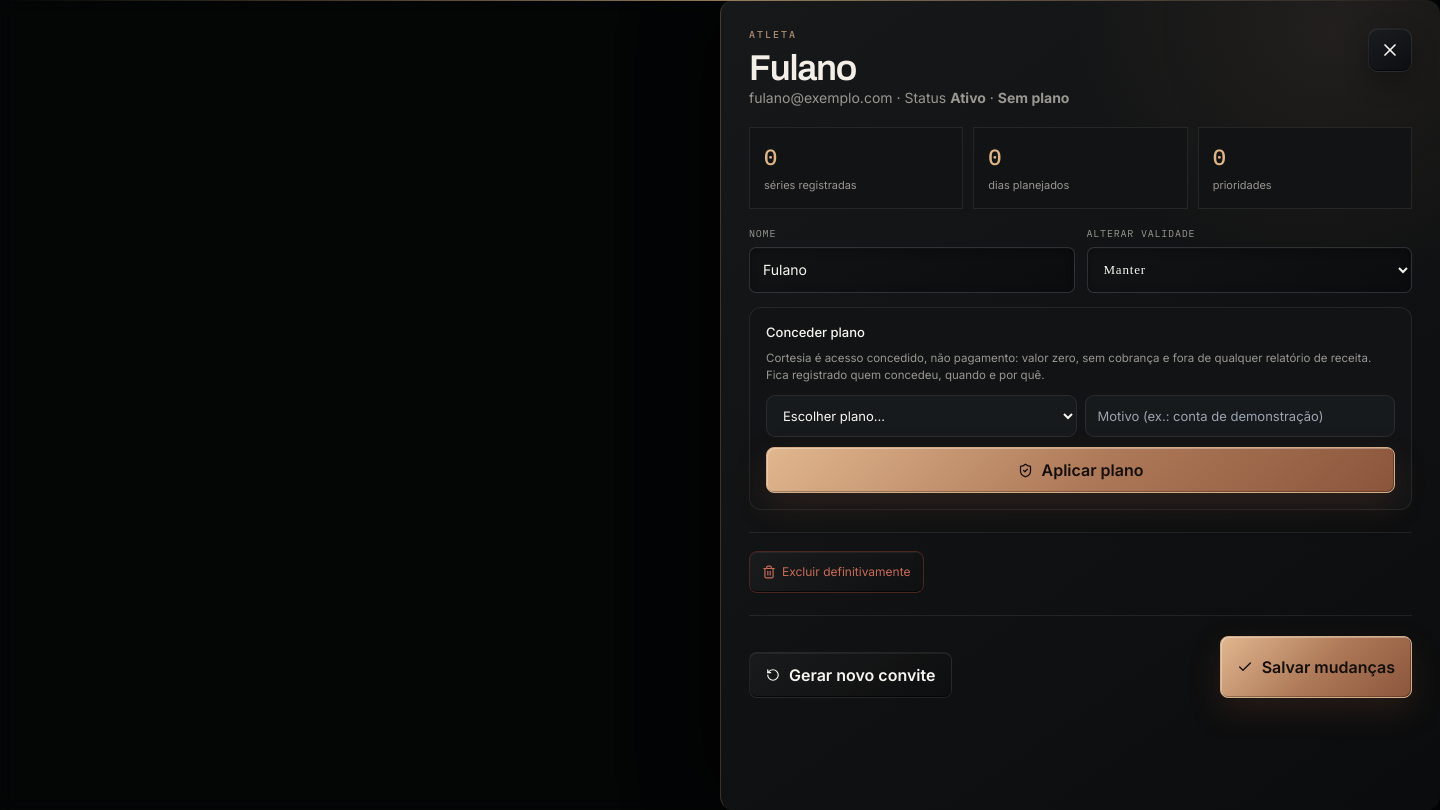
Test: a tela diz o que sera perdido e oferece arquivar no lugar
Click the button with test id "abrir-exclusao": (836, 572) [749,551,924,593]
(page scrolled)
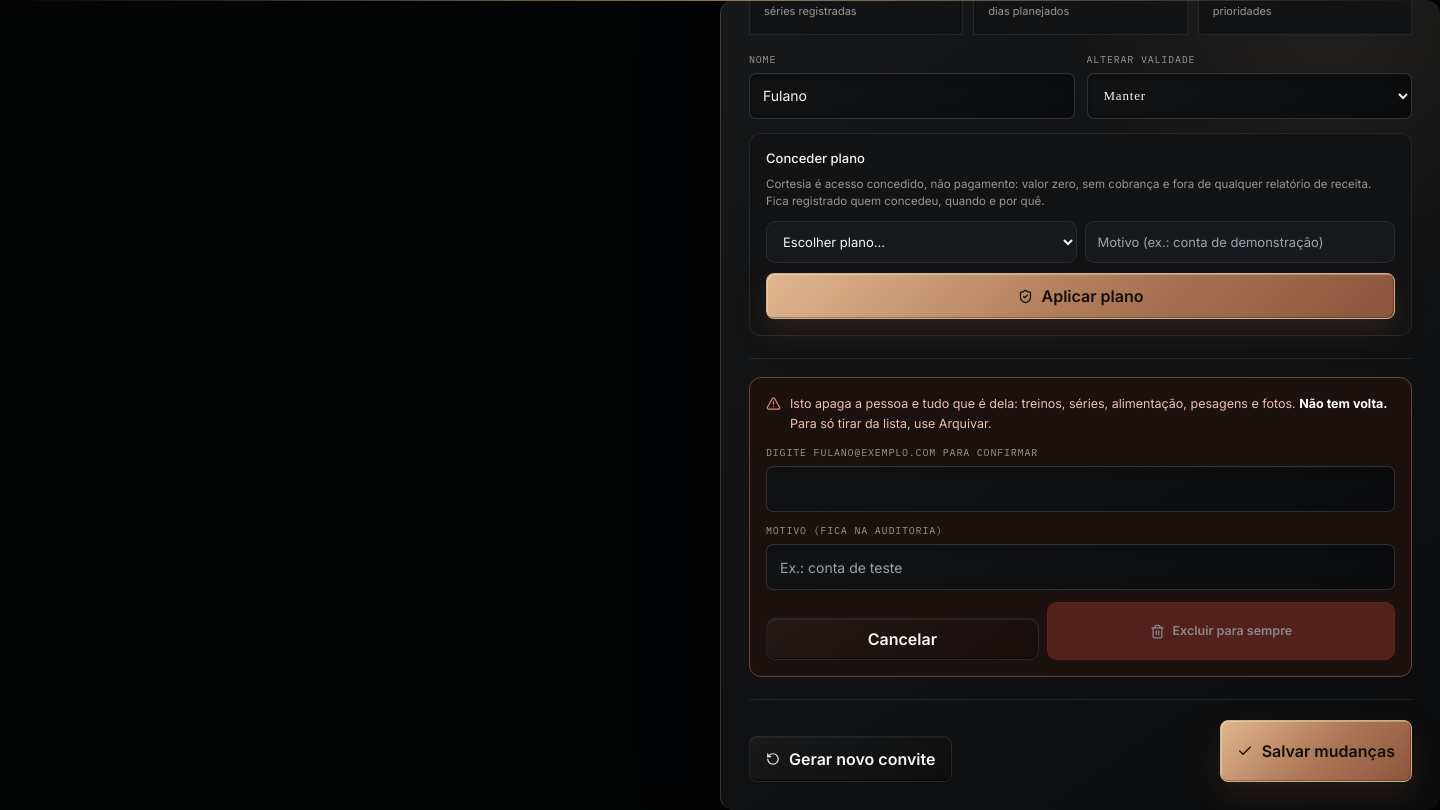
expect the element with test id "area-de-risco" shows "Não tem volta": met, box [1299,396,1388,411]
expect the element with test id "area-de-risco" shows "Arquivar": met, box [790,416,992,431]
expect the element with test id "area-de-risco" shows "fulano@exemplo.com": met, box [814,446,936,459]
